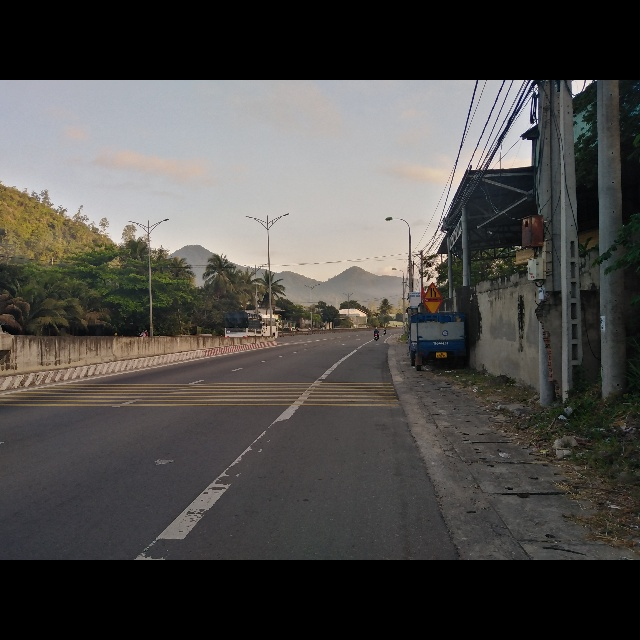Giao nhau với đường ưu tiên: (423, 301, 443, 314)
Đường bị hẹp bên phải: (422, 282, 442, 300)
